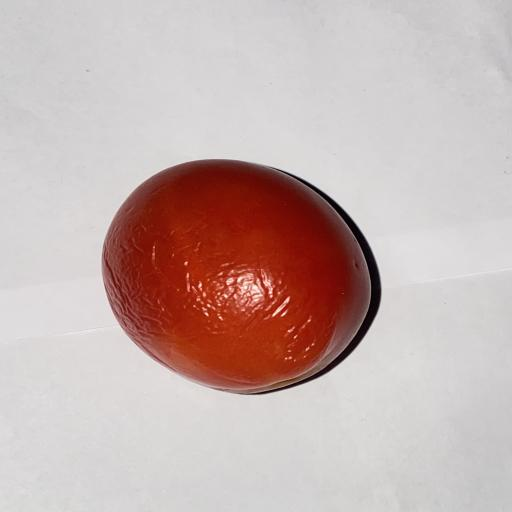spoiled: (102, 160, 371, 393)
